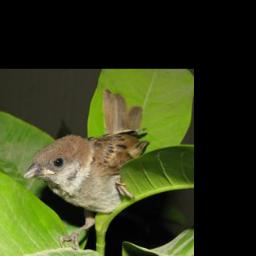Sparrow: (20, 88, 152, 251)
